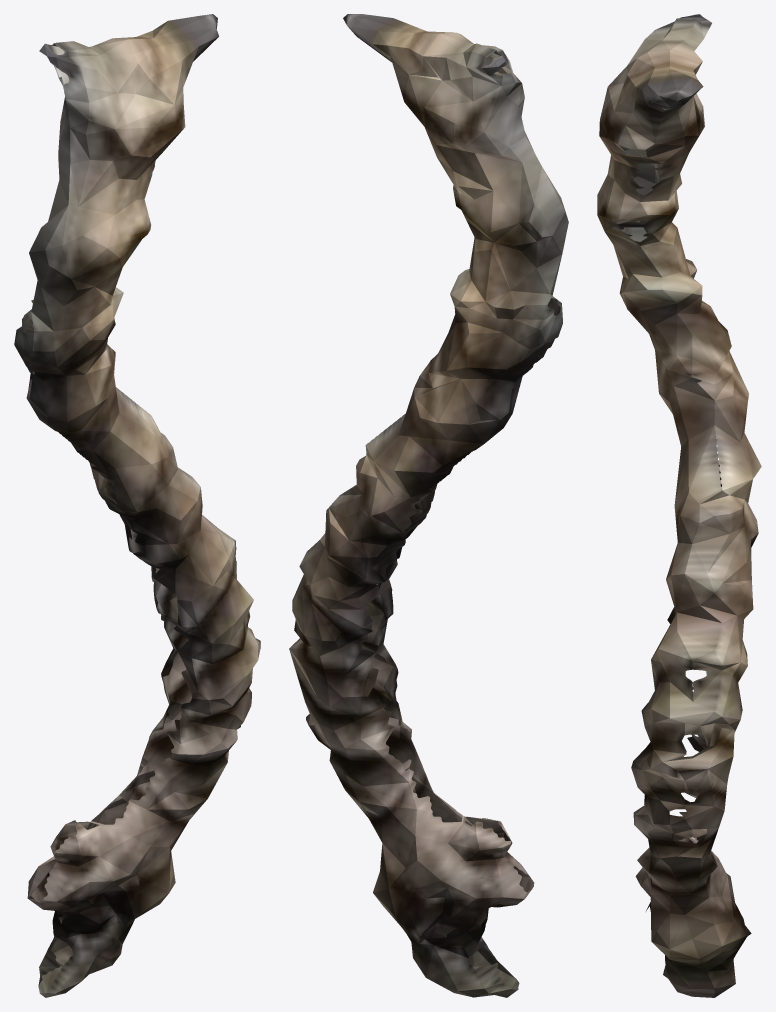
Rendered from thorntail-lite.glb.
3 views of the same model, side by side, from view 1: azimuth 30°, elevation 25°; view 2: azimuth 150°, elevation 25°; view 3: azimuth 270°, elevation 25° (orthographic). The views are drawn at different scales.
Visible parts, largest first — view 1: geometry_0; view 2: geometry_0; view 3: geometry_0.
Boxes of the visible parts, x1=… form: geometry_0: x1=14, y1=14, x2=260, y2=997; geometry_0: x1=289, y1=14, x2=568, y2=997; geometry_0: x1=597, y1=14, x2=761, y2=997.
Bounding box in the file's own units: 0.2696 × 0.9801 × 0.1507.
1 material, 1 textured.
